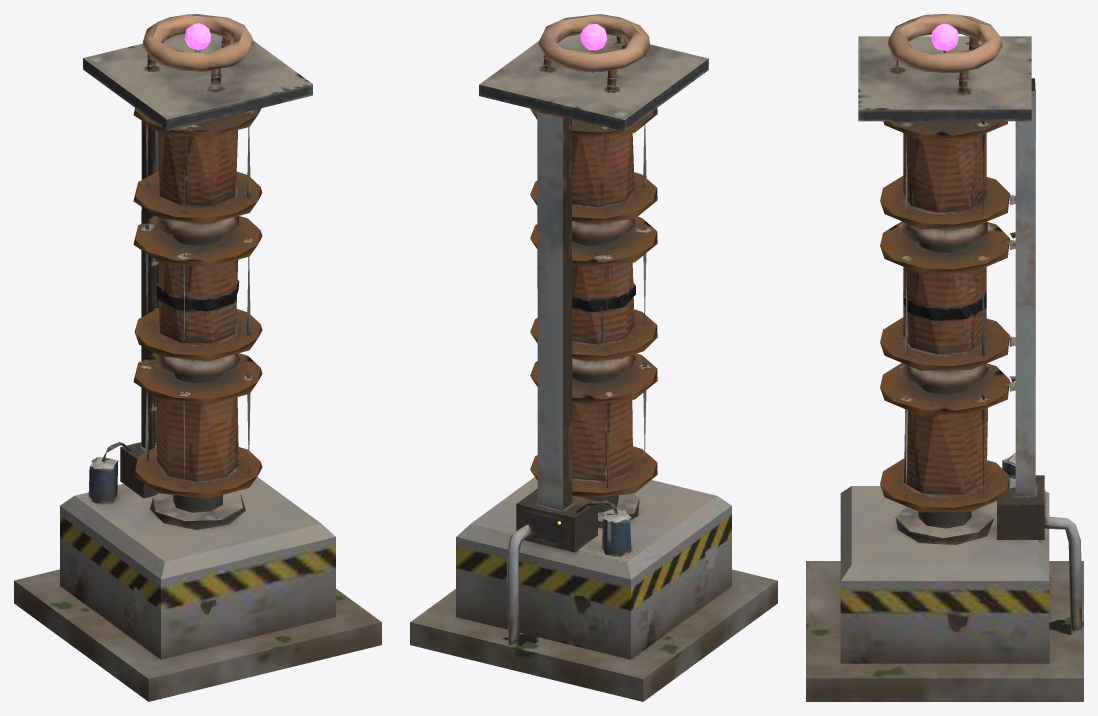
The model's file is muro_escudo.glb.
3 renders of one model, left to right at view 1: azimuth 30°, elevation 25°; view 2: azimuth 150°, elevation 25°; view 3: azimuth 270°, elevation 25°, orthographic. The views are drawn at different scales.
Visible parts, largest first — view 1: muro_escudo_corpo, mcampo_c_violeta; view 2: muro_escudo_corpo, mcampo_c_violeta; view 3: muro_escudo_corpo, mcampo_c_violeta.
Part boxes in pixels (<box>): muro_escudo_corpo: <box>14,14,381,701</box>; mcampo_c_violeta: <box>184,23,210,50</box>; muro_escudo_corpo: <box>410,14,777,701</box>; mcampo_c_violeta: <box>580,24,607,50</box>; muro_escudo_corpo: <box>806,14,1083,701</box>; mcampo_c_violeta: <box>931,23,958,50</box>.
Size of the model in its own units: 0.64 by 1.57 by 0.64.
Materials: 3 (1 with a texture image).
